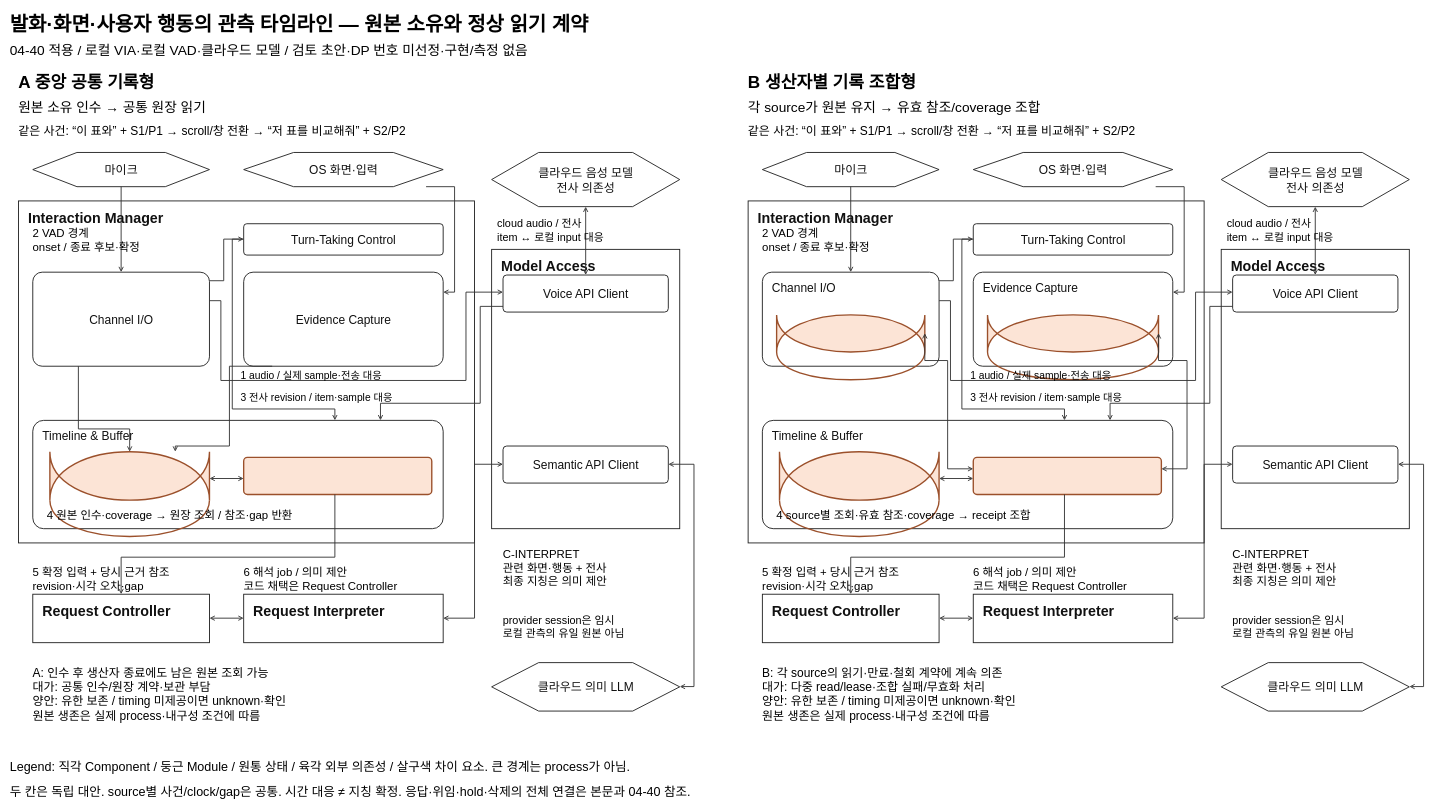
The diagram is 1439 pixels wide and 809 high, and some of its shapes have lost their labels. The shapes that lost their labels are listed below. From the top down, each one's box as (x1, y1, x2, y2) in pixels, then its label:
(776, 314, 925, 352): Audio Evidence Buffer
(987, 314, 1159, 352): Observation Buffers
(49, 451, 210, 501): Observation Ledger
(243, 456, 432, 495): Temporal Evidence Reader
(779, 451, 939, 501): Query Receipt
(972, 456, 1162, 495): Evidence Query Coordinator
